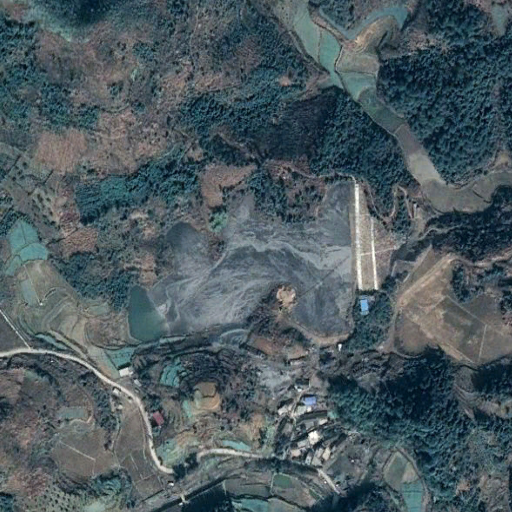tp: (120, 176, 397, 345)
